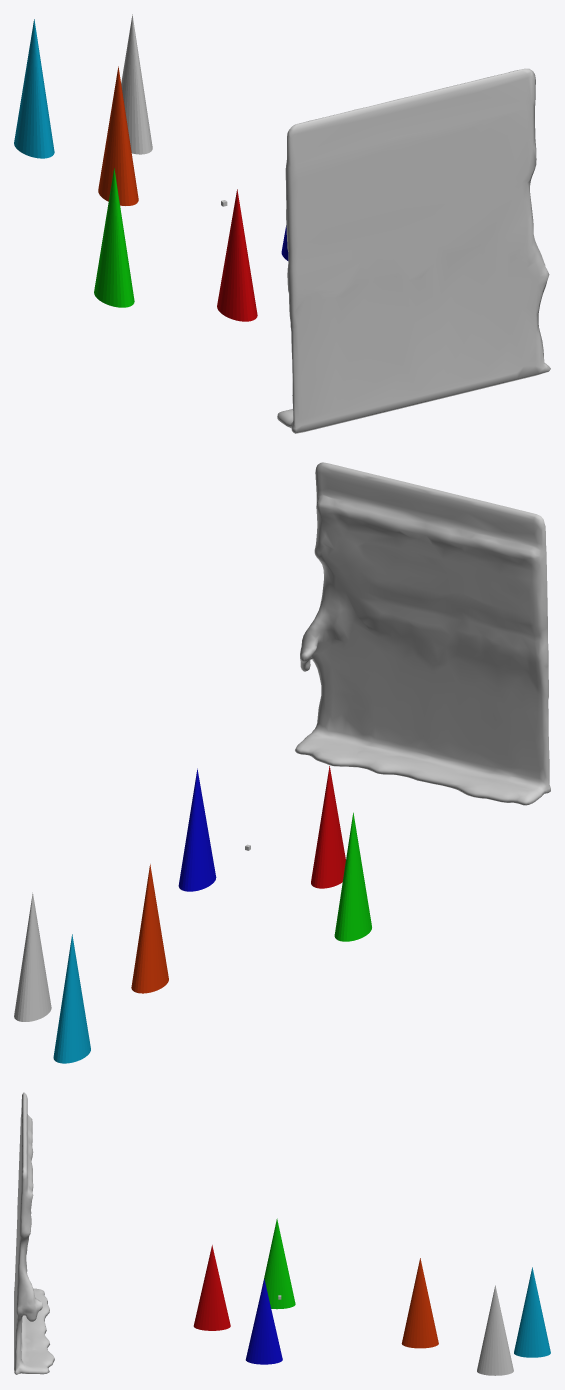
3 renders of one model, top to bottom at view 1: azimuth 30°, elevation 25°; view 2: azimuth 150°, elevation 25°; view 3: azimuth 270°, elevation 25°, orthographic. The views are drawn at different scales.
Visible parts, largest first — view 1: Liquid_Domain, 円錐.005, 円錐.003, 円錐.001, 円錐.004, 円錐; view 2: Liquid_Domain, 円錐.005, 円錐.003, 円錐.004, 円錐, 円錐.002, 円錐.001; view 3: Liquid_Domain, 円錐.004, 円錐.005, 円錐, 円錐.002, 円錐.001, 円錐.003.
Boxes of the visible parts, x1,y1,x2,y2 form: Liquid_Domain: (277, 68, 550, 433); 円錐.005: (14, 19, 54, 158); 円錐.003: (94, 168, 134, 307); 円錐.001: (217, 189, 257, 321); 円錐.004: (98, 66, 138, 205); 円錐: (121, 14, 152, 154); Liquid_Domain: (295, 462, 550, 805); 円錐.005: (53, 934, 90, 1063); 円錐.003: (334, 812, 371, 941); 円錐.004: (131, 864, 168, 993); 円錐: (14, 892, 51, 1021); 円錐.002: (178, 768, 216, 891); 円錐.001: (311, 766, 345, 888); Liquid_Domain: (14, 1092, 54, 1374); 円錐.004: (401, 1258, 438, 1348); 円錐.005: (514, 1267, 550, 1357); 円錐: (477, 1285, 513, 1375); 円錐.002: (245, 1279, 282, 1364); 円錐.001: (193, 1245, 230, 1330); 円錐.003: (262, 1218, 295, 1309).
Bounding box in the file's own units: 129 × 158 × 347.
